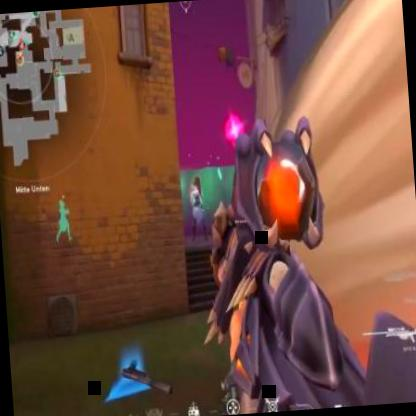enemy: (188, 176, 207, 242)
enemy_head: (193, 176, 200, 187)
